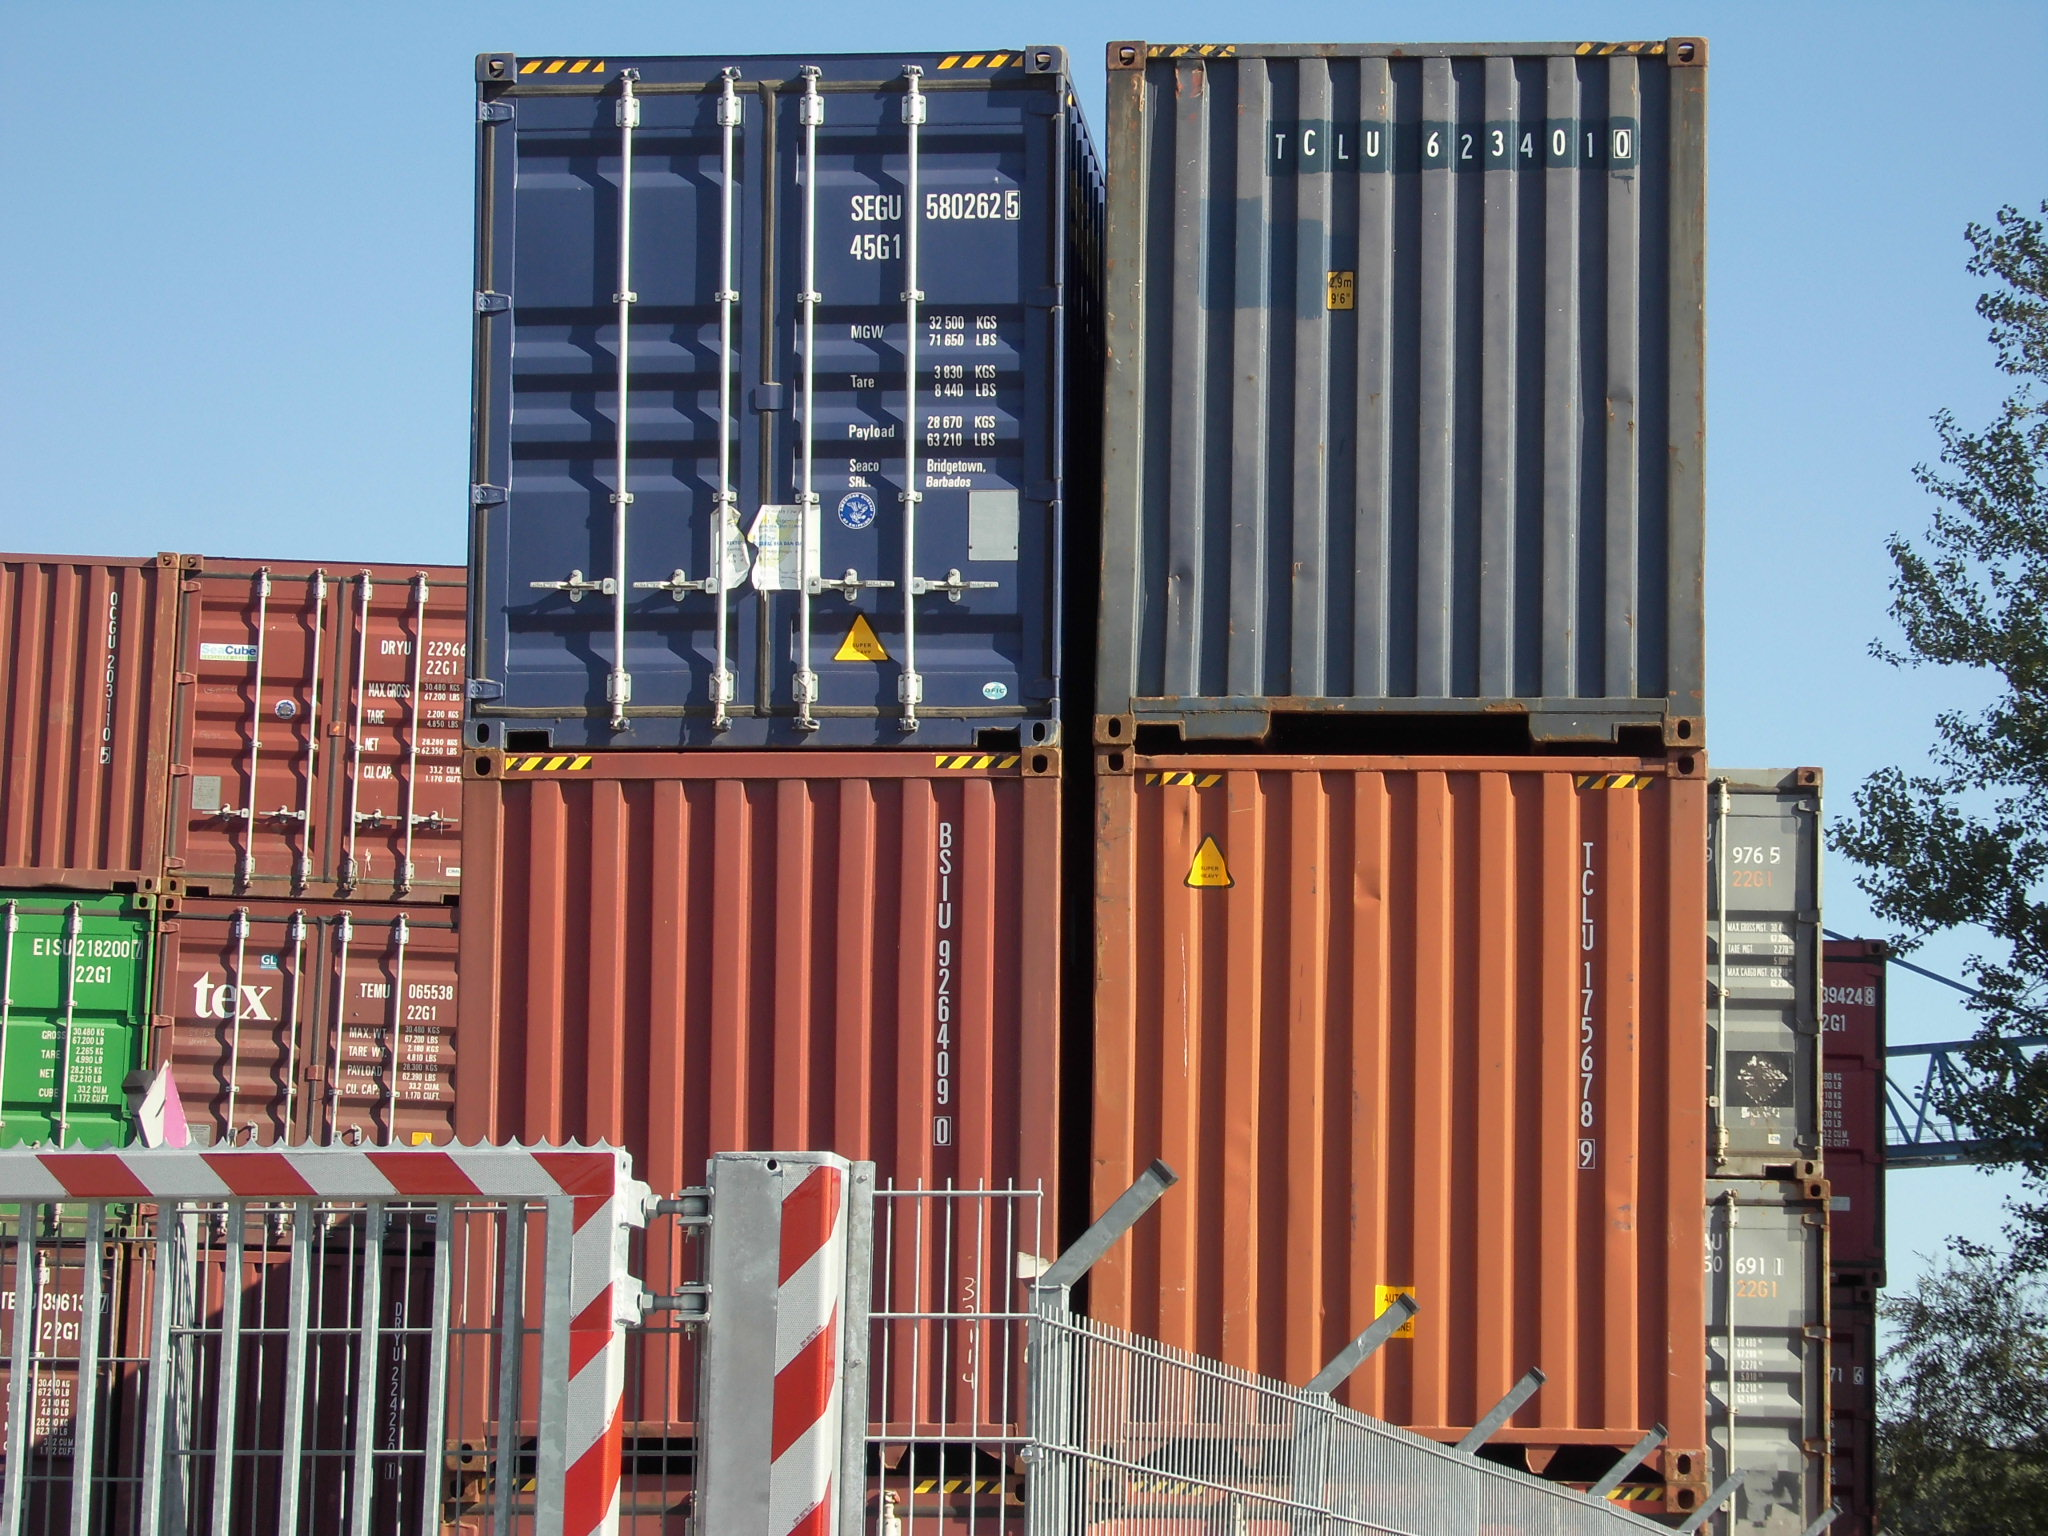container_door: (468, 53, 1053, 728), (181, 571, 461, 891), (179, 895, 460, 1215)
container_no_door: (1109, 39, 1709, 753), (1109, 758, 1709, 1473), (468, 741, 1068, 1455)
